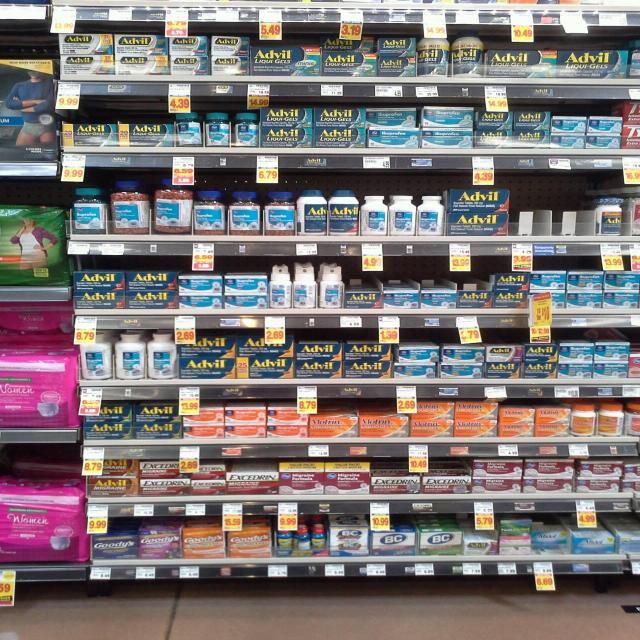empty: (511, 187, 595, 237), (346, 266, 452, 291), (456, 270, 491, 291)
